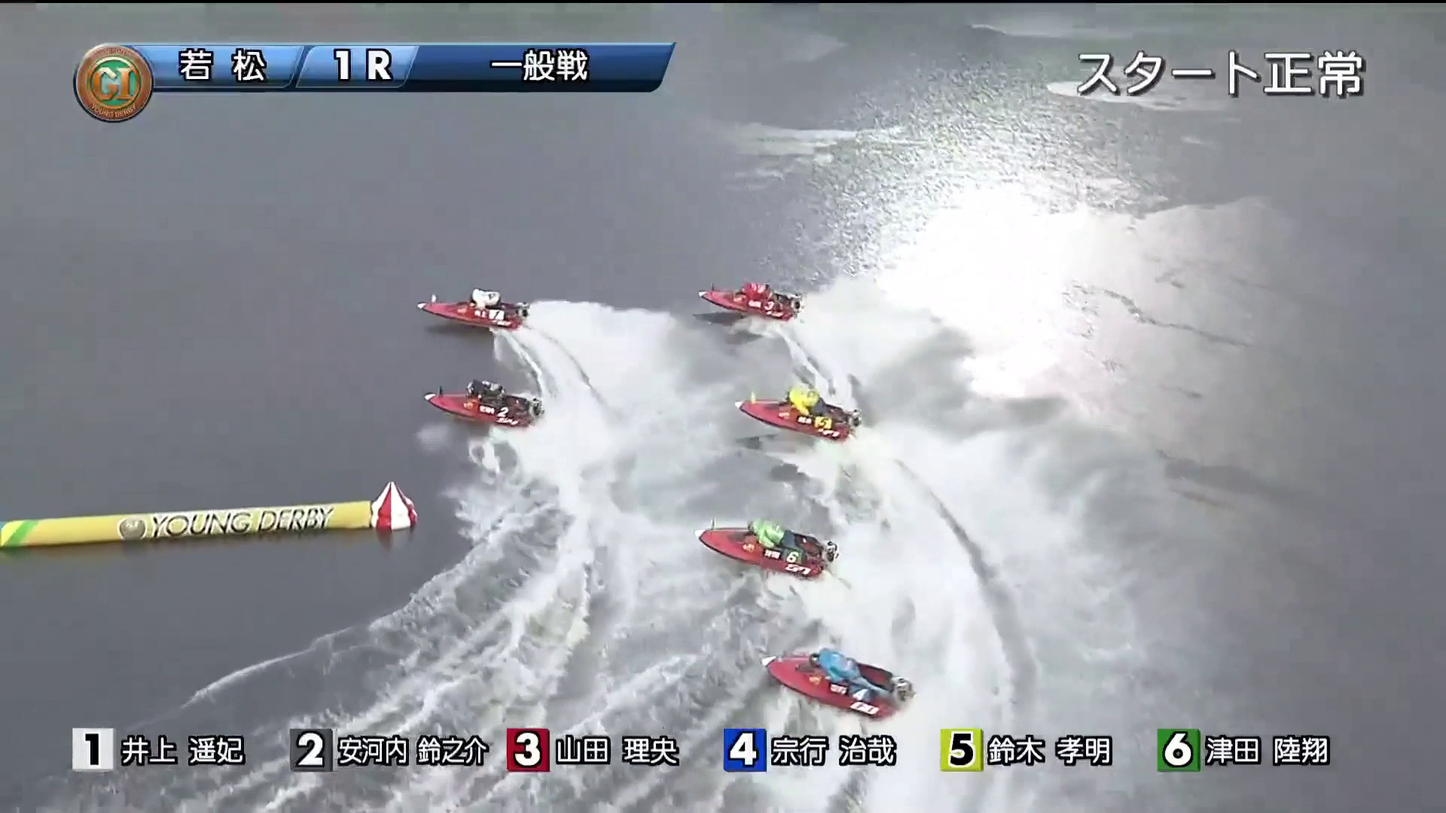１号艇: (456, 289, 526, 343)
２号艇: (425, 370, 554, 431)
３号艇: (702, 279, 800, 326)
４号艇: (718, 518, 852, 584)
５号艇: (779, 656, 903, 711)
６号艇: (741, 357, 841, 437)
